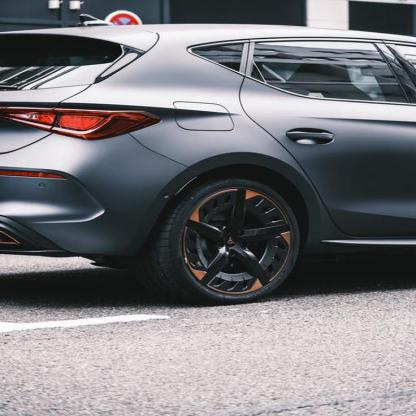Tire: (125, 172, 304, 306)
